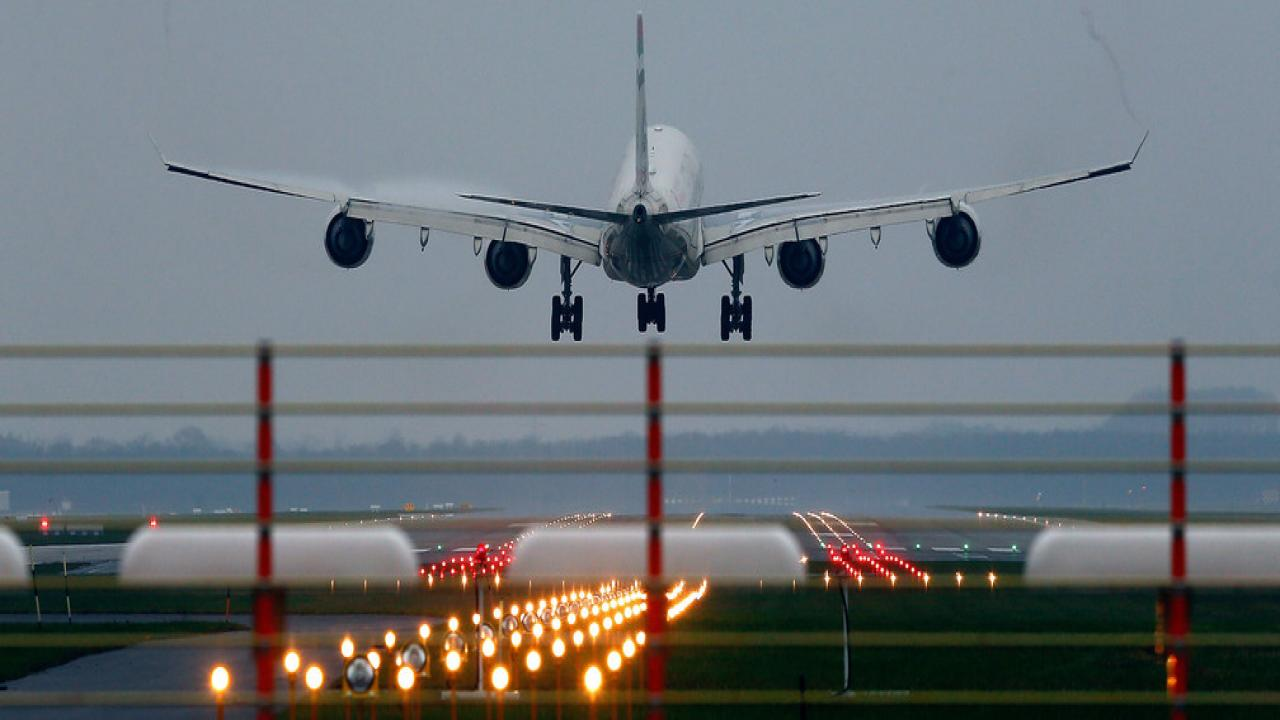Airplane: (155, 10, 1159, 359)
